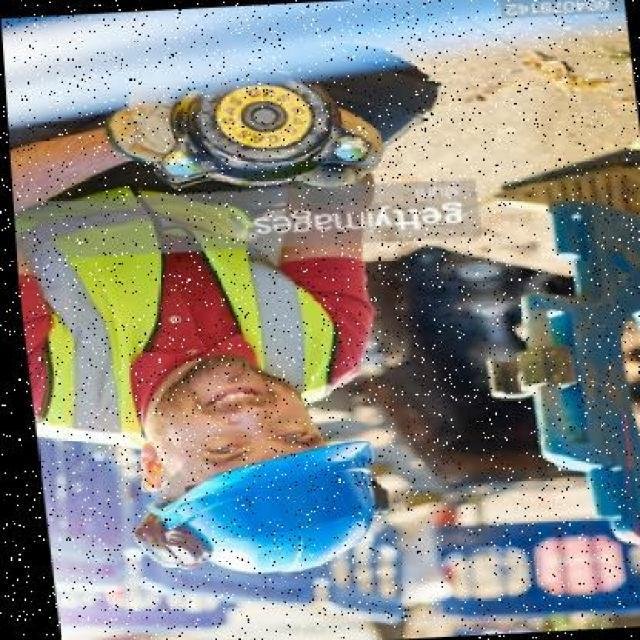helmet: (103, 432, 403, 583)
vest: (8, 155, 344, 423)
